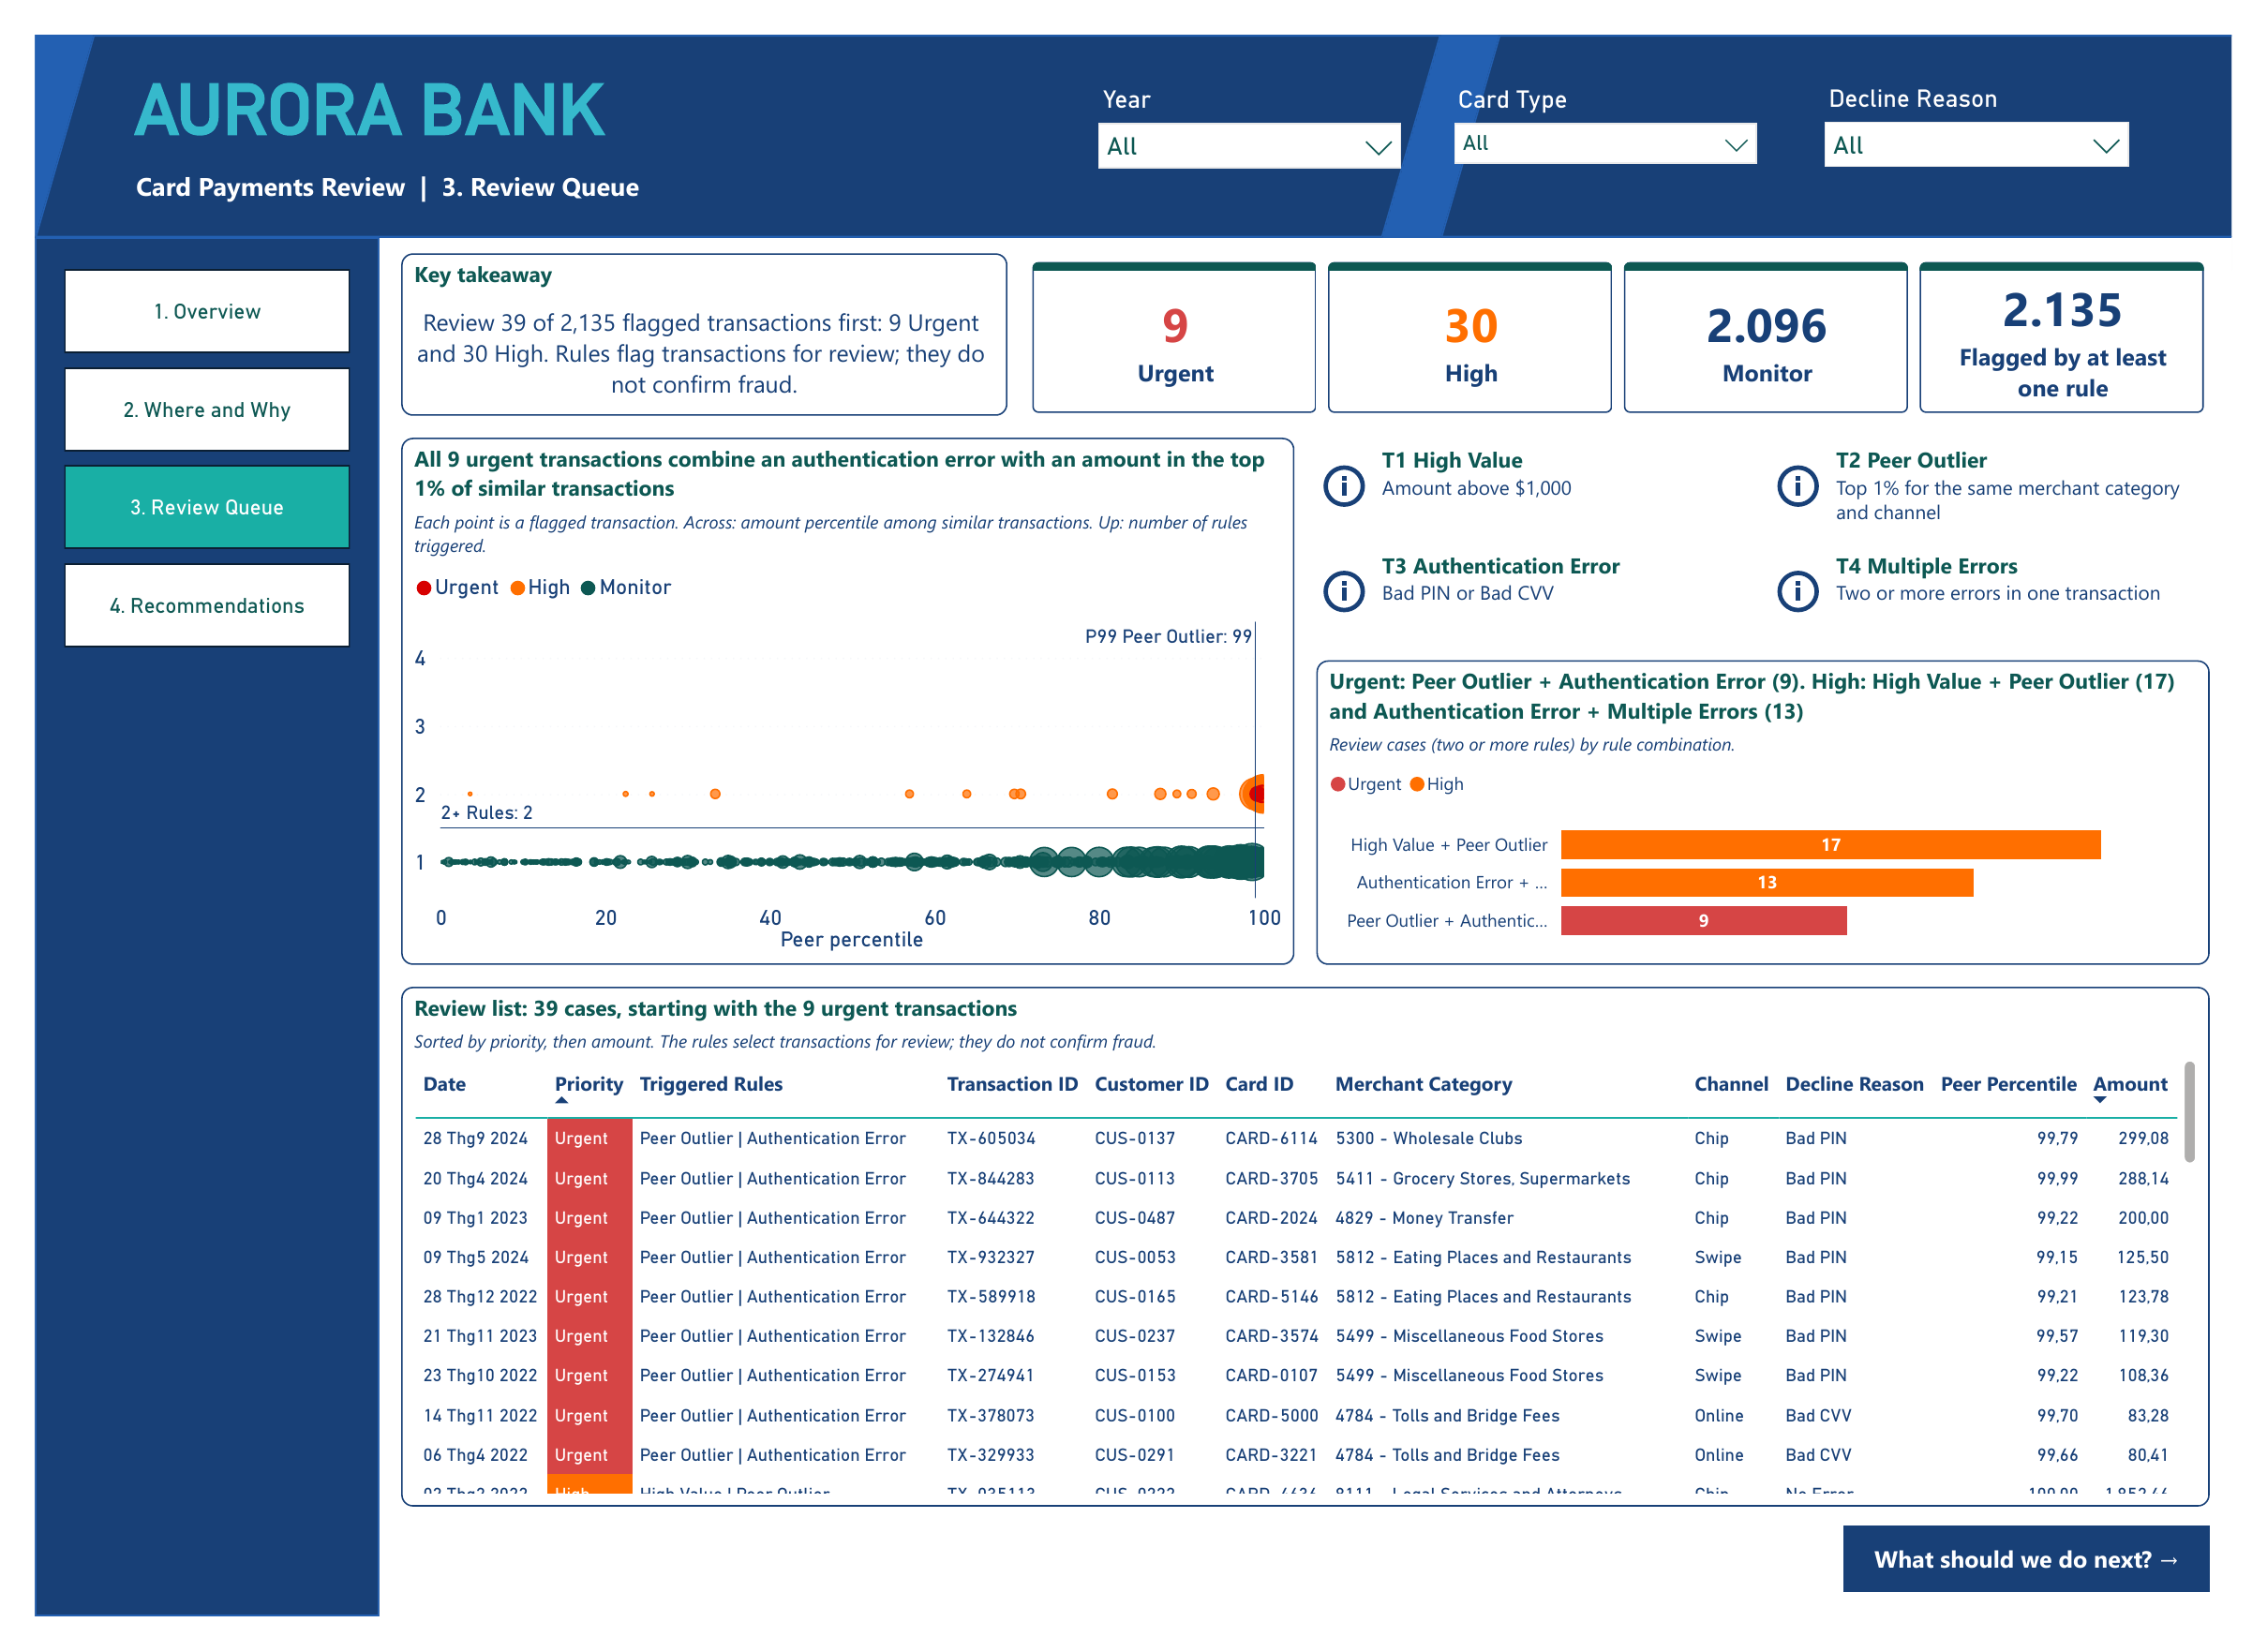

The dashboard page shown, as its layout file describes it:
{"tool":"powerbi","page":{"name":"3. Review Queue","canvas":[1500,1080],"ordinal":2},"visuals":[{"type":"shape","box":[0,0,1920,137.8],"z":0},{"type":"shape","box":[0,0,960,137.5],"z":1000},{"type":"shape","box":[960,0,960,137.5],"z":2000},{"type":"textbox","box":[62.5,18,345,67.5],"z":3000},{"type":"group","id":"g1","title":"Group 1","box":[875,275,300,65],"z":4000},{"type":"group","id":"g2","title":"Group 1","box":[1185,347,300,65],"z":5000},{"type":"textbox","box":[64,86,600,34],"z":6000},{"type":"shape","box":[0,137.5,235,942.5],"z":7000},{"type":"group","id":"g3","title":"Group 1","box":[875,347,300,65],"z":8000},{"type":"pageNavigator","box":[20,160,195,260],"z":9000},{"type":"textbox","box":[915,275,260,65],"z":10000,"group":"g1"},{"type":"group","id":"g4","title":"Group 1","box":[1185,275,300,65],"z":10000},{"type":"textbox","box":[1225,275,260,65],"z":10000,"group":"g4"},{"type":"textbox","box":[915,347,260,65],"z":10000,"group":"g3"},{"type":"textbox","box":[1225,347,260,65],"z":10000,"group":"g2"},{"type":"group","id":"g5","title":"Group 1","box":[716,28,724,74],"z":11000},{"type":"cardVisual","fields":{"Data":["_Measures.Urgent Cases","_Measures.High Cases","_Measures.Monitor Cases","_Measures.Flagged Transactions"]},"box":[663.8,137.5,836.2,137.5],"z":12000},{"type":"scatterChart","fields":{"Category":["transactions_data.Masked Transaction ID"],"Series":["transactions_data.Review Priority"],"Size":["Max(transactions_data.amount)"],"X":["transactions_data.Peer Amount Percentile"],"Y":["Max(transactions_data.Triggered Rule Count)"]},"box":[250,275,610,360],"z":13000},{"type":"actionButton","box":[875,283,38,50],"z":13000,"group":"g1"},{"type":"actionButton","box":[1185,283,38,50],"z":13000,"group":"g4"},{"type":"actionButton","box":[875,355,38,50],"z":13000,"group":"g3"},{"type":"actionButton","box":[1185,355,38,50],"z":13000,"group":"g2"},{"type":"barChart","fields":{"Category":["fact_transactions_data.Rule Combination"],"Series":["fact_transactions_data.Review Priority"],"Y":["_Measures.Review Cases"]},"box":[875,427,610,208],"z":14000},{"type":"tableEx","fields":{"Values":["dim_date.Date","transactions_data.Review Priority","fact_transactions_data.Triggered Rules","transactions_data.Masked Transaction ID","fact_transactions_data.Masked Customer ID","fact_transactions_data.Masked Card ID","mcc_codes.MCC Label","fact_transactions_data.Channel","fact_transactions_data.Error Type","fact_transactions_data.Peer Amount Percentile","fact_transactions_data.amount"]},"box":[250,650,1235,355],"z":15000},{"type":"slicer","fields":{"Values":["cards_data.card_type"]},"box":[958.9,28.6,227.1,74.3],"z":16000,"group":"g5"},{"type":"actionButton","box":[1235,1018,250,45],"z":16000},{"type":"slicer","fields":{"Values":["dim_error.Error Type"]},"box":[1211.7,28,228,74],"z":17000,"group":"g5"},{"type":"card","title":"Key takeaway","fields":{"Values":["_Measures.Page Summary Review Queue"]},"box":[250,148.8,413.8,111.2],"z":17000},{"type":"slicer","fields":{"Values":["dim_date.Year"]},"box":[716,28.6,227.1,74.3],"z":18000,"group":"g5"}]}

Visuals, with their boxes on the page's 1500x1080 design canvas (x1, y1, x2, y2). These are canvas units, not pixel positions in the 2267x1652 screenshot, which may show the page scaled, cropped or inside an application window:
shape: Rect(0, 0, 1920, 138)
shape: Rect(0, 0, 960, 138)
shape: Rect(960, 0, 1920, 138)
textbox: Rect(62, 18, 408, 86)
"Group 1" group: Rect(875, 275, 1175, 340)
"Group 1" group: Rect(1185, 347, 1485, 412)
textbox: Rect(64, 86, 664, 120)
shape: Rect(0, 138, 235, 1080)
"Group 1" group: Rect(875, 347, 1175, 412)
pageNavigator: Rect(20, 160, 215, 420)
textbox: Rect(915, 275, 1175, 340)
"Group 1" group: Rect(1185, 275, 1485, 340)
textbox: Rect(1225, 275, 1485, 340)
textbox: Rect(915, 347, 1175, 412)
textbox: Rect(1225, 347, 1485, 412)
"Group 1" group: Rect(716, 28, 1440, 102)
cardVisual - _Measures.Urgent Cases x _Measures.High Cases: Rect(664, 138, 1500, 275)
scatterChart - transactions_data.Masked Transaction ID x transactions_data.Review Priority: Rect(250, 275, 860, 635)
actionButton: Rect(875, 283, 913, 333)
actionButton: Rect(1185, 283, 1223, 333)
actionButton: Rect(875, 355, 913, 405)
actionButton: Rect(1185, 355, 1223, 405)
barChart - fact_transactions_data.Rule Combination x fact_transactions_data.Review Priority: Rect(875, 427, 1485, 635)
tableEx - dim_date.Date x transactions_data.Review Priority: Rect(250, 650, 1485, 1005)
slicer - cards_data.card_type: Rect(959, 29, 1186, 103)
actionButton: Rect(1235, 1018, 1485, 1063)
slicer - dim_error.Error Type: Rect(1212, 28, 1440, 102)
"Key takeaway" card: Rect(250, 149, 664, 260)
slicer - dim_date.Year: Rect(716, 29, 943, 103)
